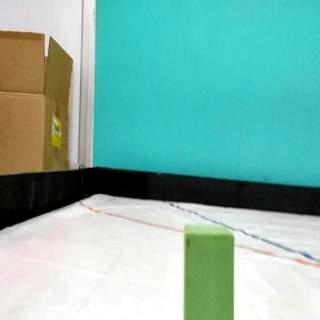greenbox: (182, 223, 235, 320)
